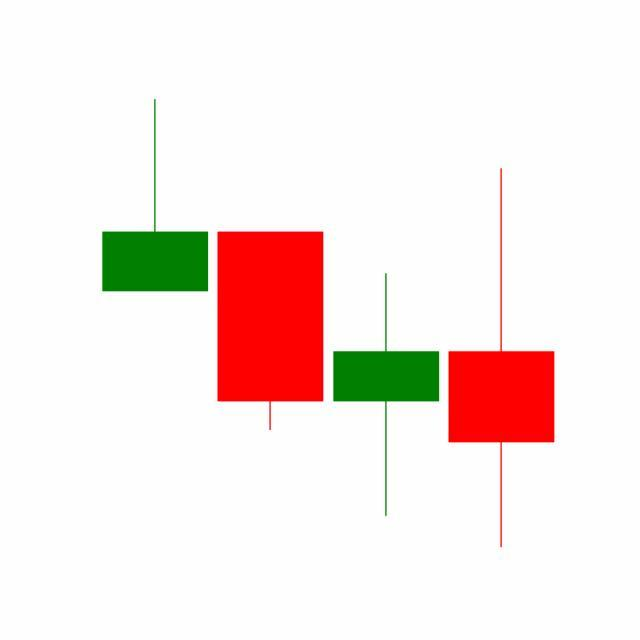Spinning Top: (444, 165, 560, 553)
